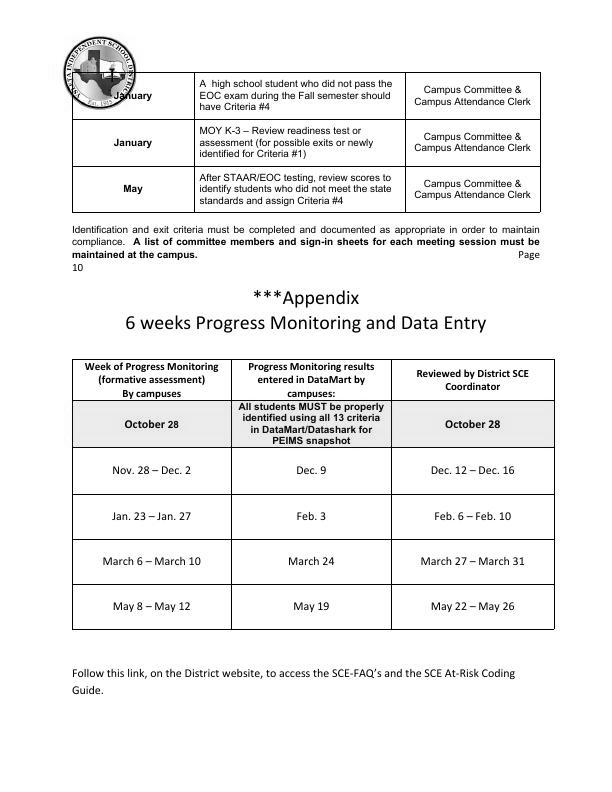table: (66, 353, 562, 638), (63, 67, 545, 216)
text: (113, 285, 491, 337), (70, 223, 548, 264), (68, 665, 527, 703)
